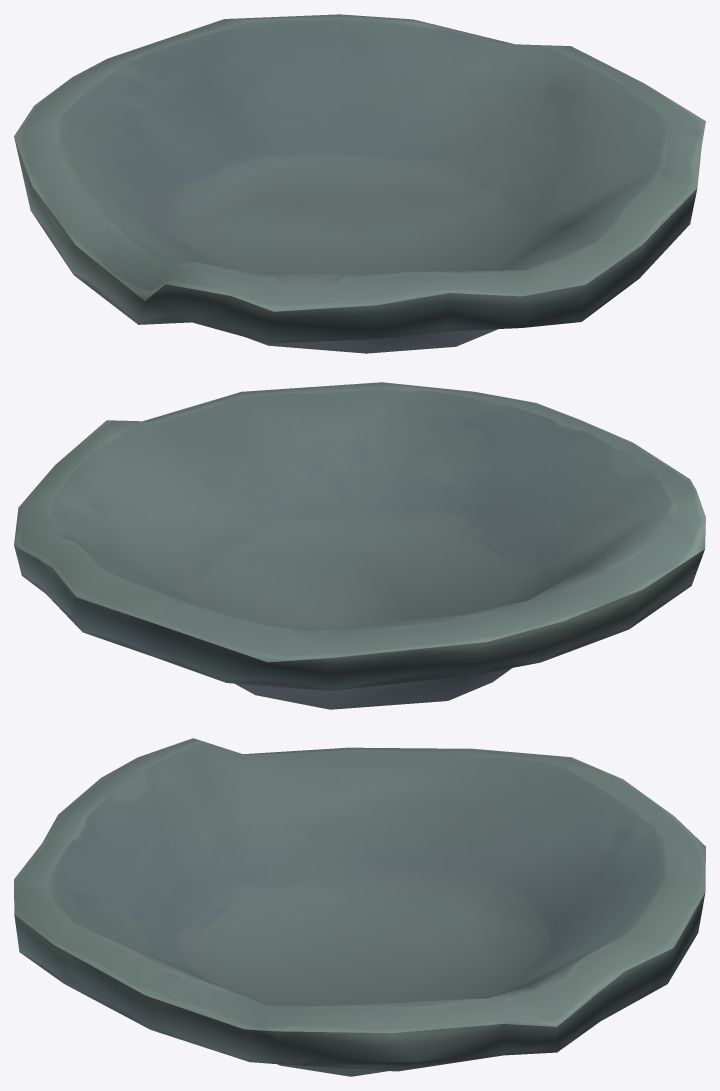
Rendered from SM_FW01_CampProp_Plate_01.fbx.
The picture shows the model from 3 angles, top to bottom: view 1: azimuth 30°, elevation 25°; view 2: azimuth 150°, elevation 25°; view 3: azimuth 270°, elevation 25°; orthographic projection. The views are drawn at different scales.
Visible parts, largest first — view 1: SM_FW01_CampProp_Plate_01_LOD0; view 2: SM_FW01_CampProp_Plate_01_LOD0; view 3: SM_FW01_CampProp_Plate_01_LOD0.
Boxes of the visible parts, <box> form: SM_FW01_CampProp_Plate_01_LOD0: <box>14,14,705,353</box>; SM_FW01_CampProp_Plate_01_LOD0: <box>14,382,705,709</box>; SM_FW01_CampProp_Plate_01_LOD0: <box>14,738,705,1076</box>.
Size of what is drawn, in the model's own units: 0.6745 by 0.1469 by 0.6824.
